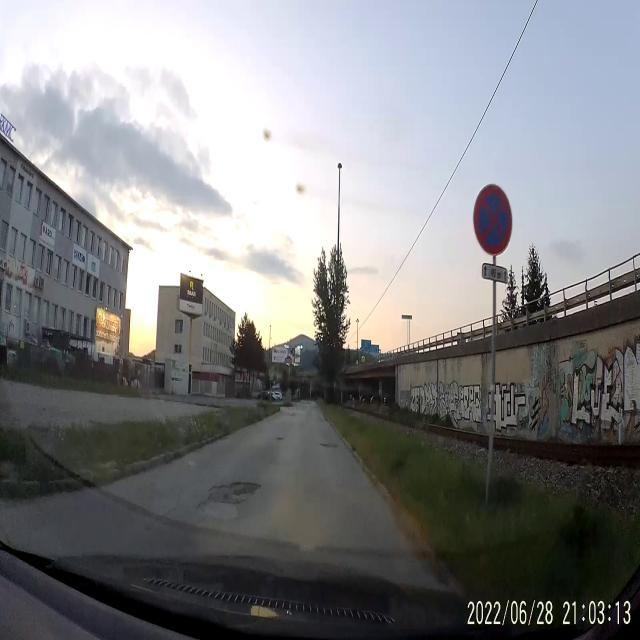Pothole: (208, 480, 262, 505), (319, 438, 339, 452), (276, 434, 284, 442), (196, 502, 206, 508)
